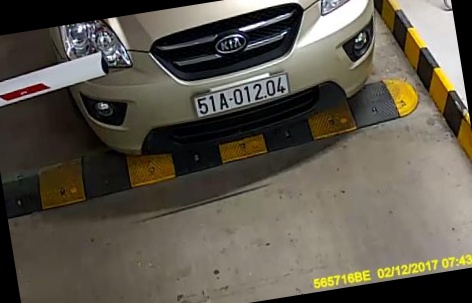plate: (192, 71, 298, 123)
